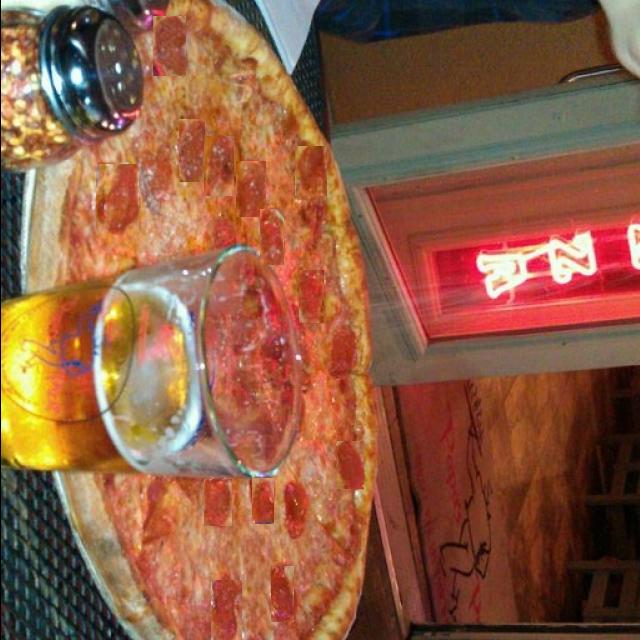pepperoni: (95, 164, 138, 234), (152, 16, 185, 76), (210, 580, 241, 640), (203, 136, 233, 196), (235, 162, 265, 218), (178, 119, 204, 182), (294, 146, 326, 196), (284, 483, 308, 542), (259, 209, 283, 265), (298, 270, 323, 323), (203, 479, 231, 526), (336, 441, 363, 489), (330, 330, 357, 378), (270, 566, 293, 622), (251, 478, 273, 524)
pizza: (23, 0, 380, 640)
